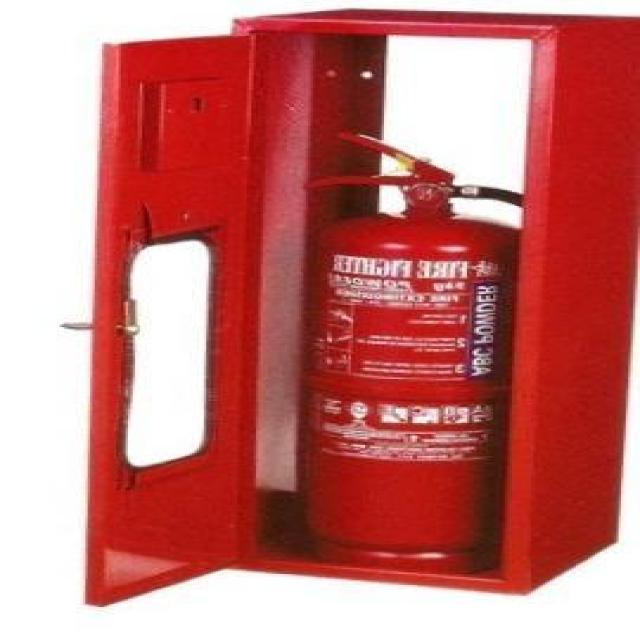fire_extinguisher: (287, 123, 557, 586)
